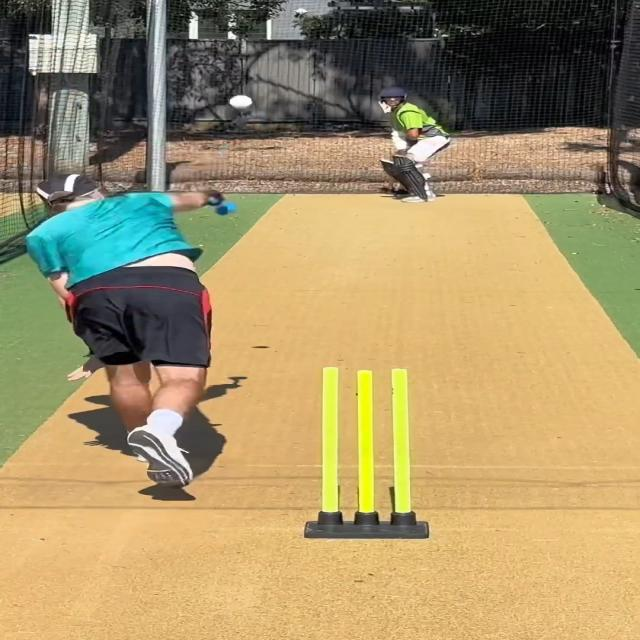ball: (227, 93, 255, 111)
stump: (301, 364, 430, 540)
